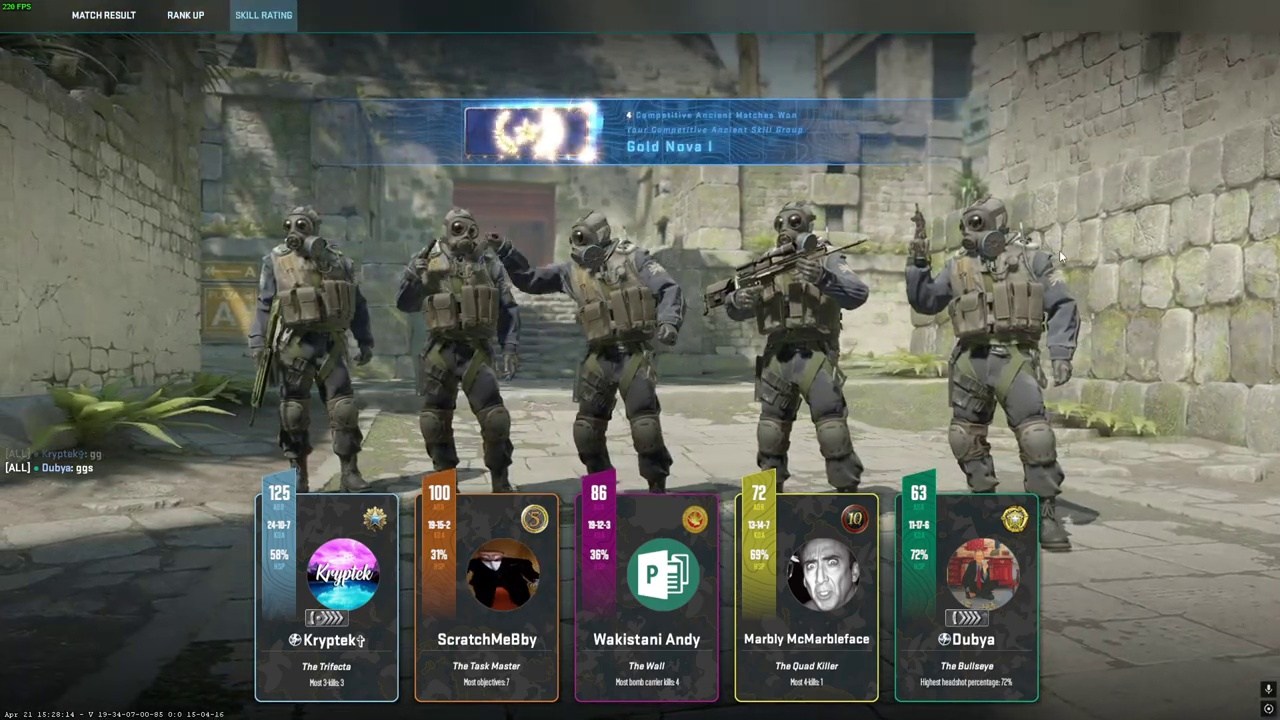CT: (933, 198, 1074, 548), (744, 202, 860, 491), (409, 209, 517, 496), (564, 212, 670, 496), (268, 206, 366, 491)
